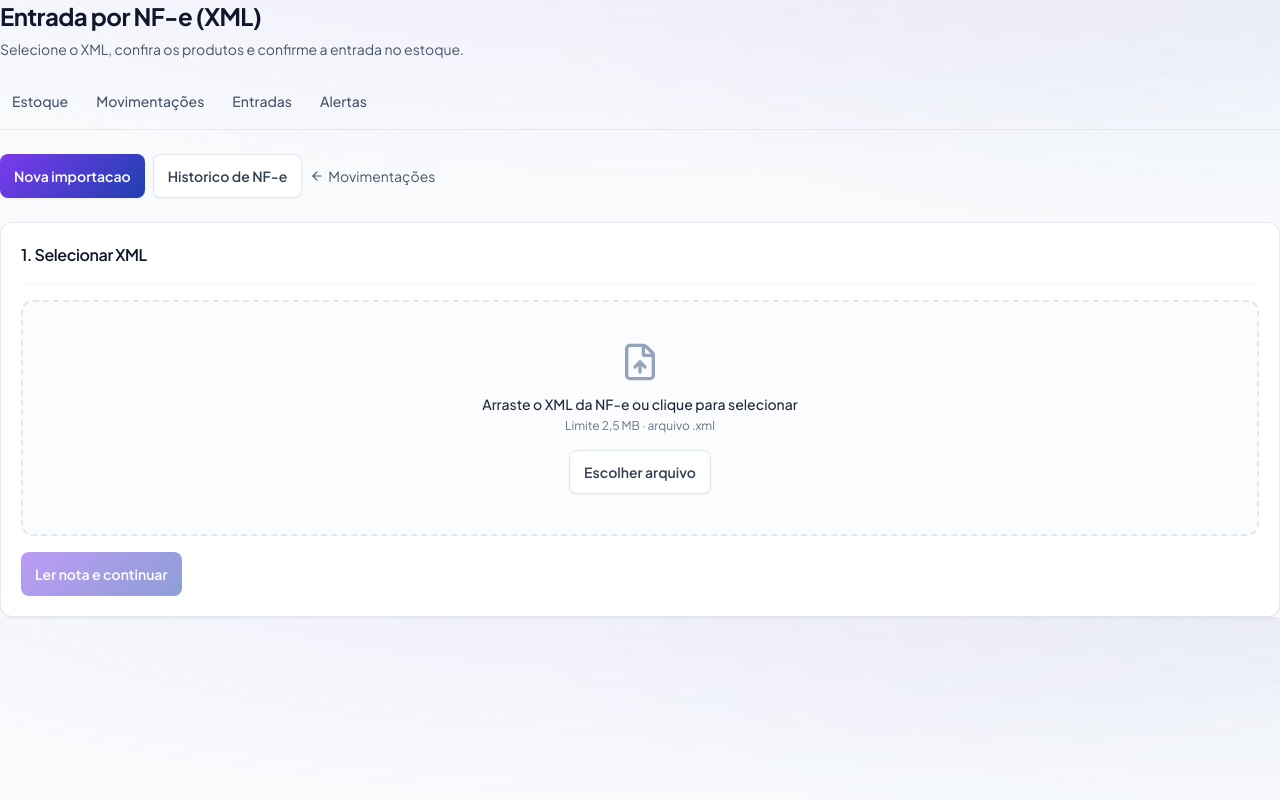
Test: NfeImportPage › abre historico
The image size is (1280, 800).
Click the button "Historico de NF-e": (228, 176) [153,154,302,198]
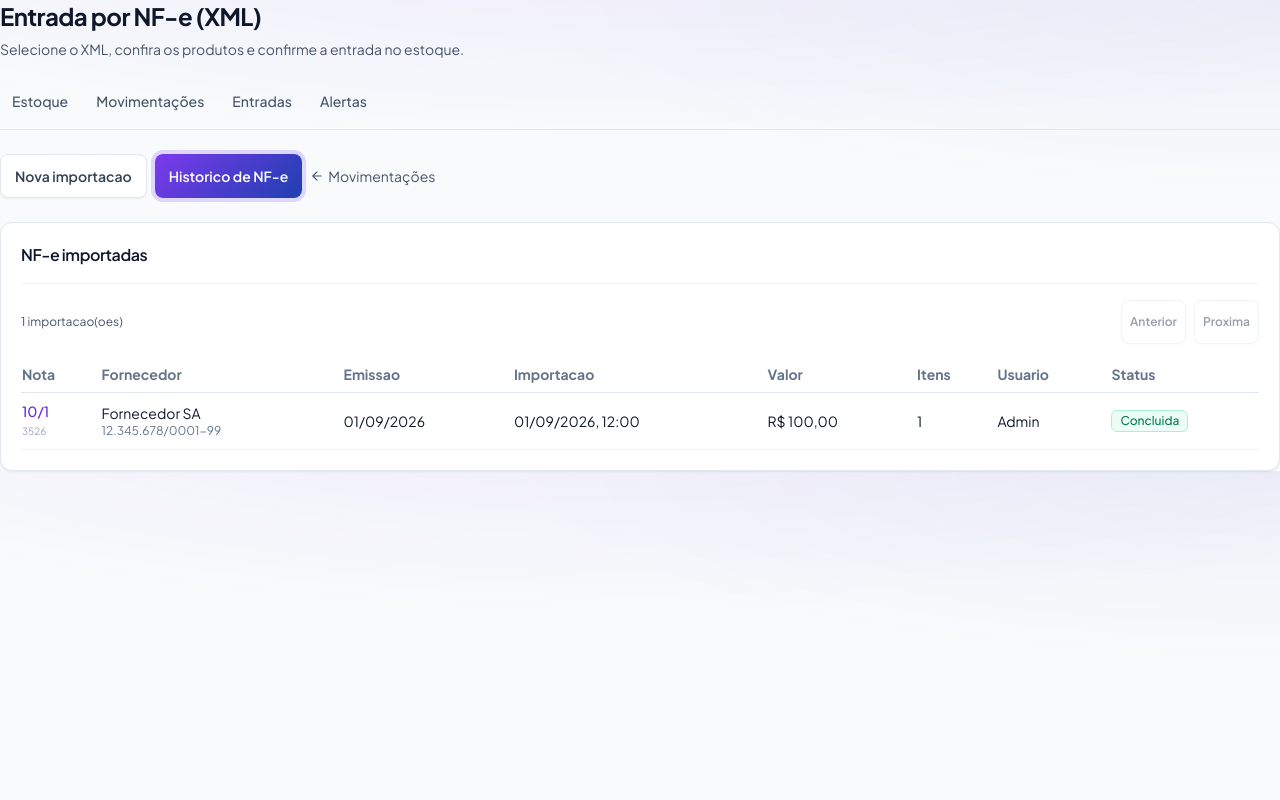
Expected: the text "Fornecedor SA" is shown, [102,404,201,422]
Click the button "10/1": (36, 411) [22,401,49,421]
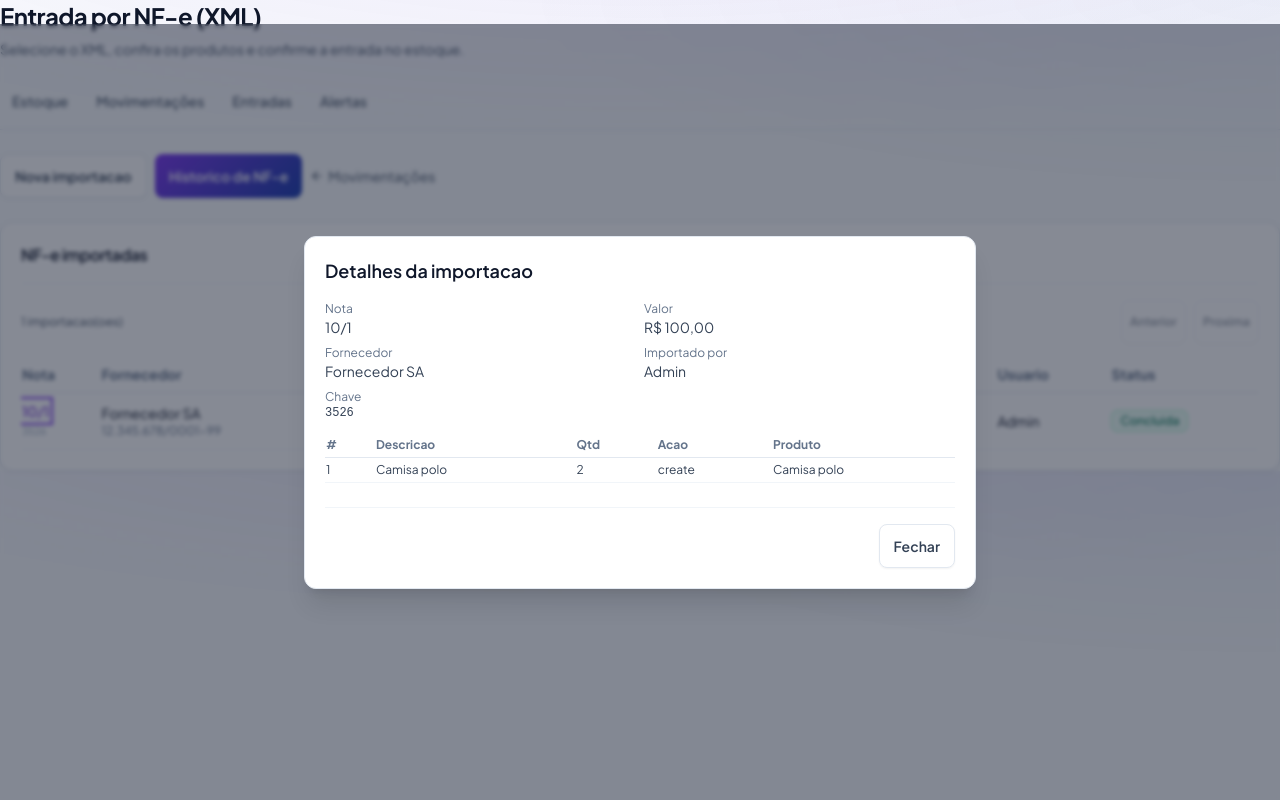
Expected: the dialog "Detalhes da importacao" is shown, [304,236,976,588]
Expected: the 1st text "Camisa polo" is shown, [375,457,576,482]
